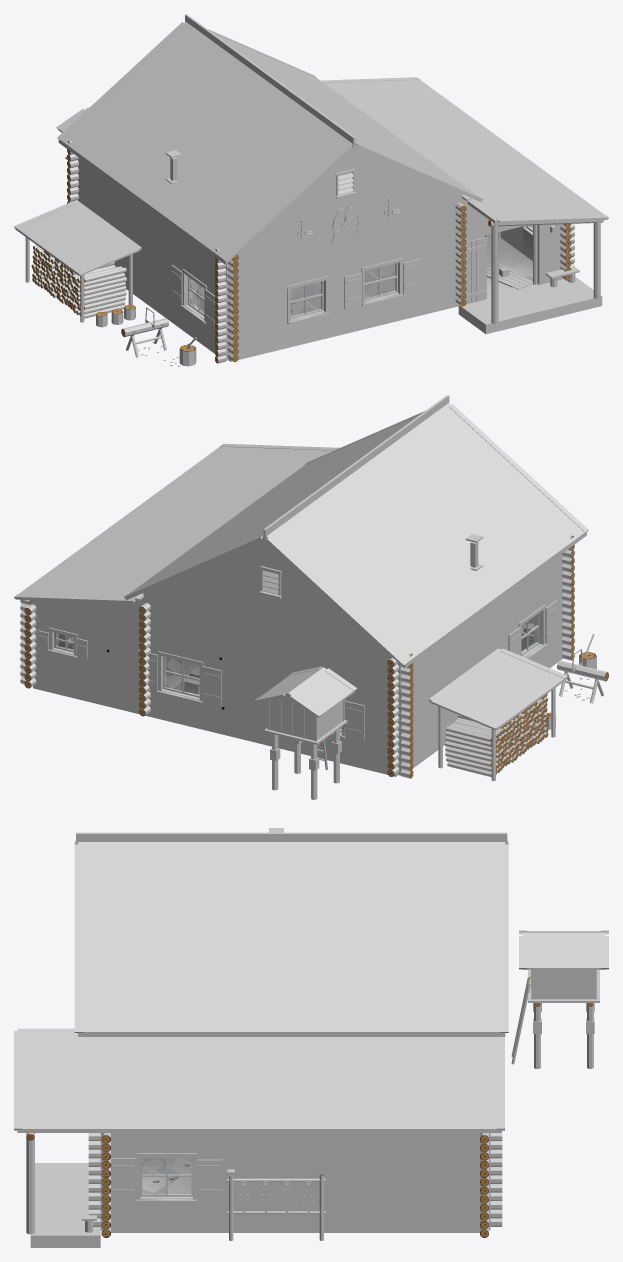
The model's file is cabin_trapper.glb.
3 renders of one model, top to bottom at view 1: azimuth 30°, elevation 25°; view 2: azimuth 150°, elevation 25°; view 3: azimuth 270°, elevation 25°, orthographic. The views are drawn at different scales.
Visible parts, largest first — view 1: cabin_trapper; view 2: cabin_trapper; view 3: cabin_trapper.
Boxes of the visible parts, bbox=[...] form: cabin_trapper: bbox=[14, 14, 608, 366]; cabin_trapper: bbox=[14, 395, 608, 799]; cabin_trapper: bbox=[14, 828, 608, 1247].
Bounding box in the file's own units: 16.78 × 7.9 × 15.73.
Materials: 4 (3 with a texture image).
